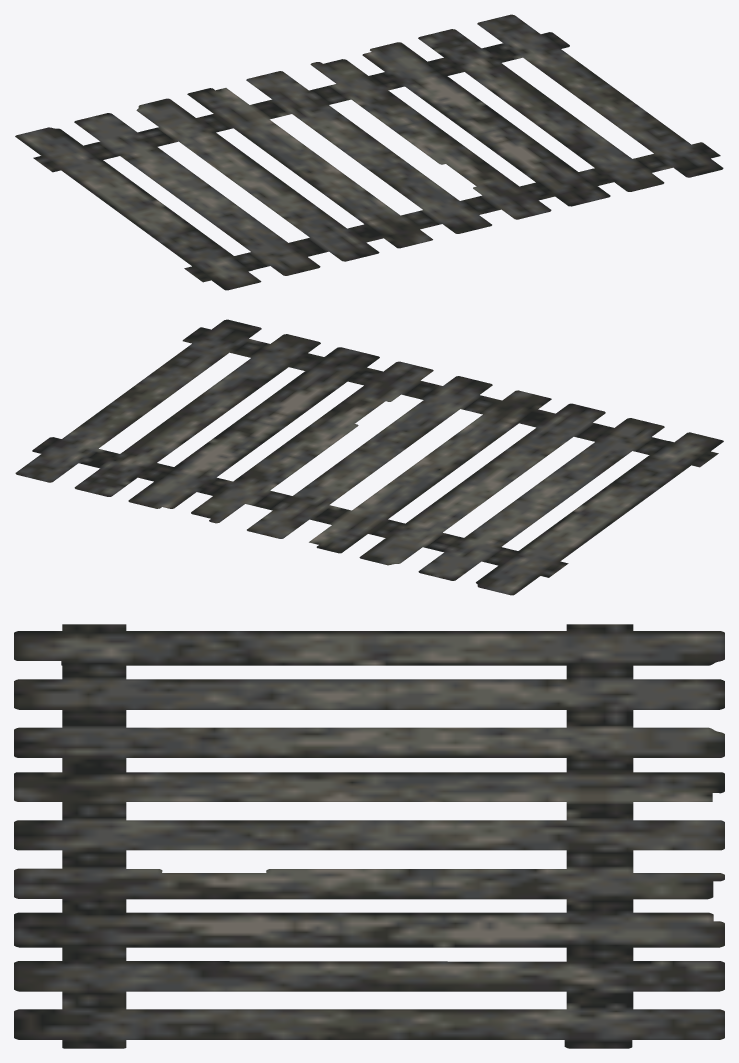
Rendered from SM_EC_Fence_Card_07.fbx.
The picture shows the model from 3 angles, top to bottom: view 1: azimuth 30°, elevation 25°; view 2: azimuth 150°, elevation 25°; view 3: azimuth 270°, elevation 25°; orthographic projection. The views are drawn at different scales.
Parts seen in each view (by area): view 1: SM_EC_Fence_Card_07; view 2: SM_EC_Fence_Card_07; view 3: SM_EC_Fence_Card_07.
Part boxes in pixels (x1,y1,x2,y2): SM_EC_Fence_Card_07: (15,14,723,290); SM_EC_Fence_Card_07: (15,319,723,595); SM_EC_Fence_Card_07: (14,624,724,1048).
Bounding box in the file's own units: 1.5 × 1.07 × 0.
